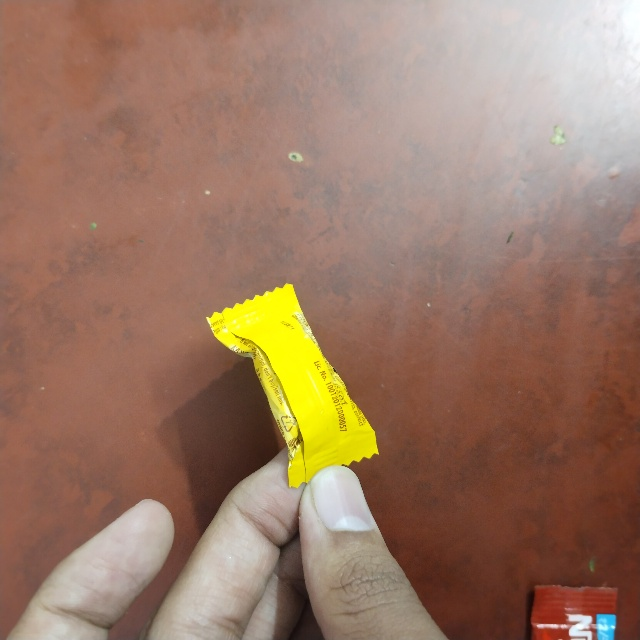Alpenlibe Creamfills: (210, 314, 323, 509)
